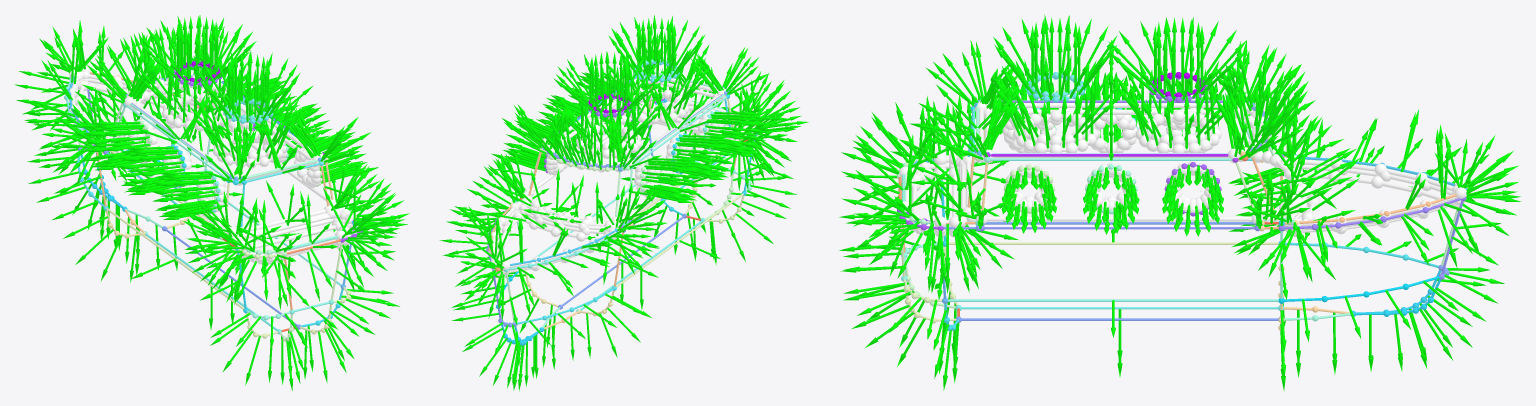
File: onshape_boat.gltf
3 renders of one model, left to right at view 1: azimuth 30°, elevation 25°; view 2: azimuth 150°, elevation 25°; view 3: azimuth 270°, elevation 25°, orthographic. The views are drawn at different scales.
Size of the model in its own units: 0.4434 by 0.593 by 1.06.
